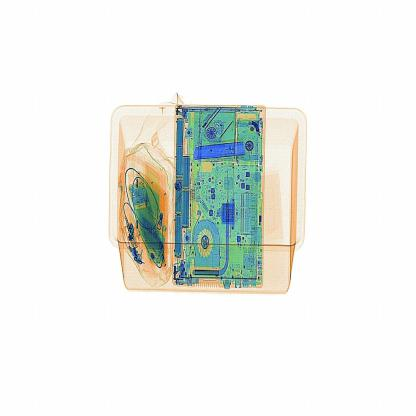pliers: (188, 130, 248, 175)
